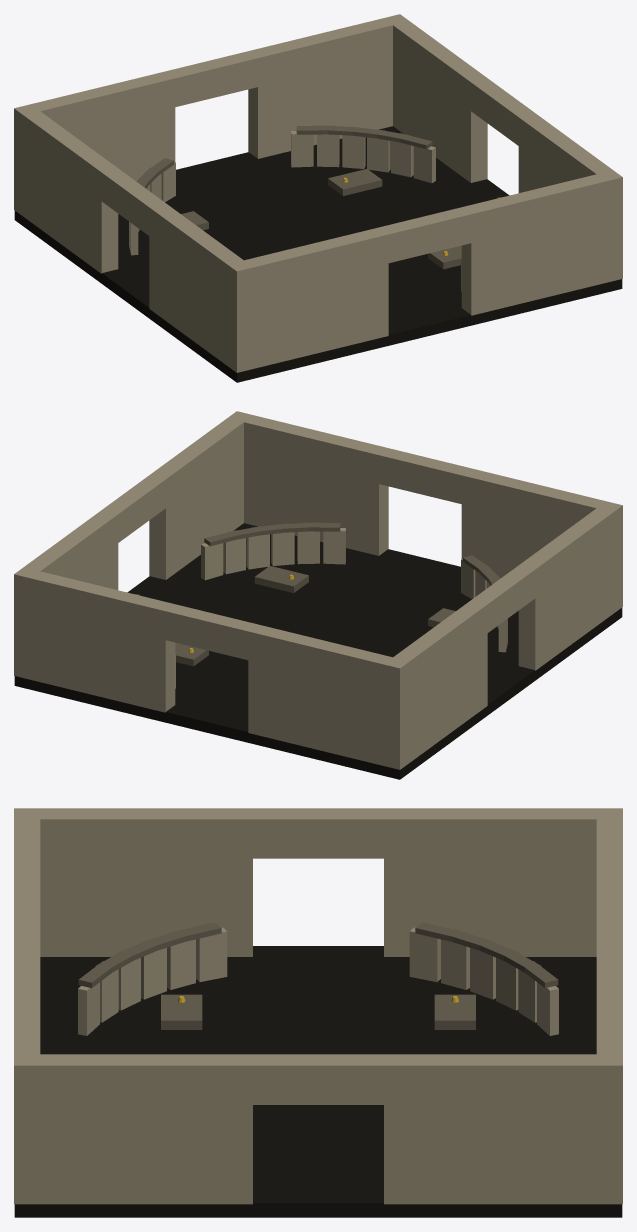
The model's file is BronzeGraveCircle.fbx.
The picture shows the model from 3 angles, top to bottom: view 1: azimuth 30°, elevation 25°; view 2: azimuth 150°, elevation 25°; view 3: azimuth 270°, elevation 25°; orthographic projection. The views are drawn at different scales.
Visible parts, largest first — view 1: BronzeGraveCircle; view 2: BronzeGraveCircle; view 3: BronzeGraveCircle.
Part boxes in pixels (x1,y1,x2,y2): BronzeGraveCircle: (14, 14, 622, 382); BronzeGraveCircle: (14, 411, 622, 779); BronzeGraveCircle: (14, 808, 622, 1217).
Size of the model in its own units: 1202 by 332 by 1202.
Materials: 4 (4 with a texture image).
